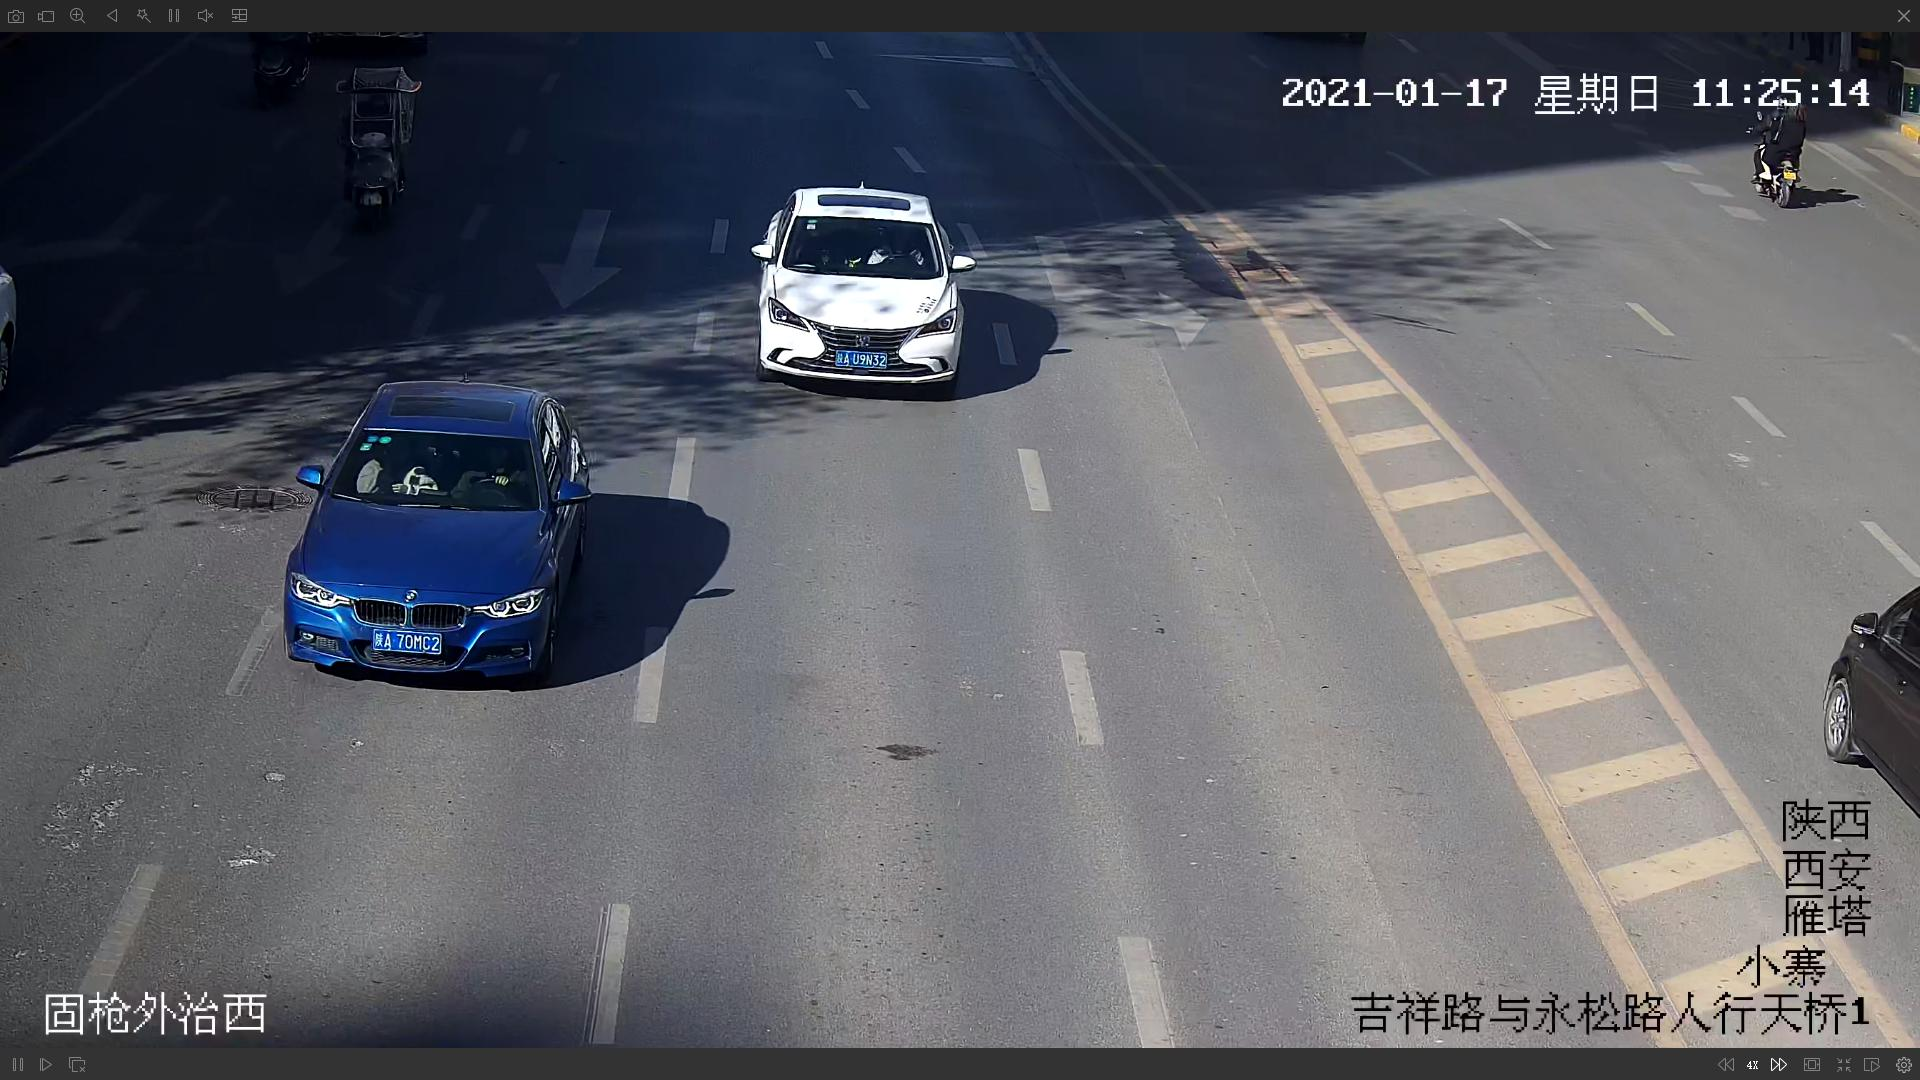blue: (280, 378, 597, 690)
white: (745, 177, 980, 392)
